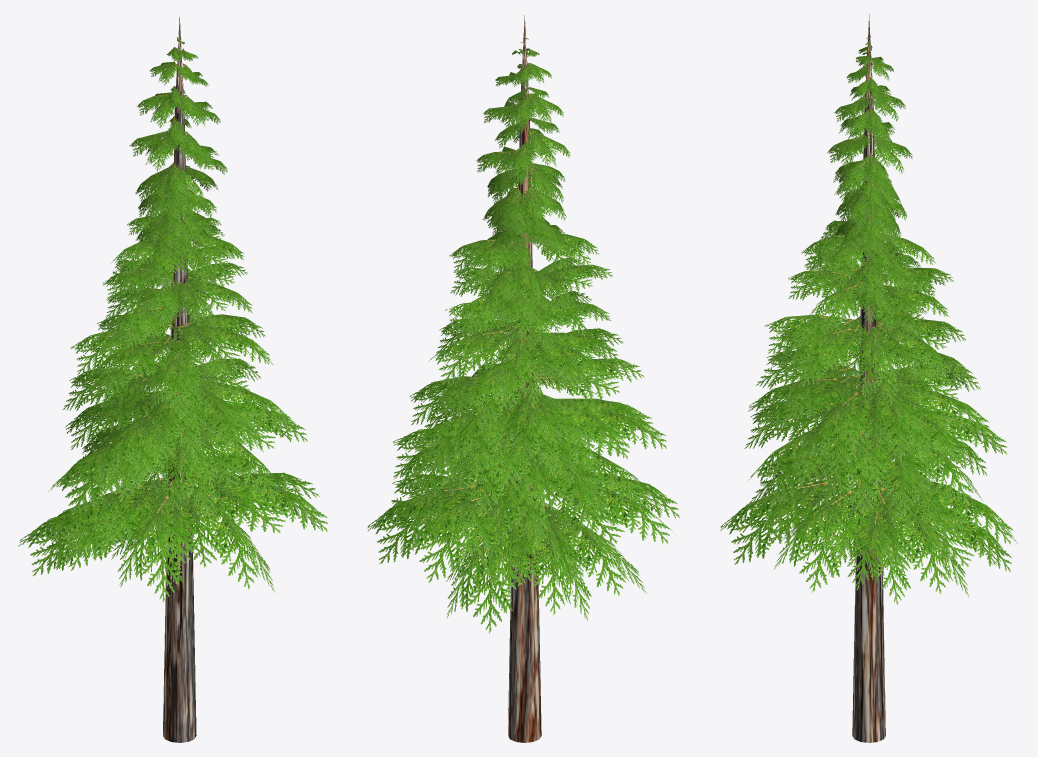
Rendered from tree_conifer_02.glb.
The picture shows the model from 3 angles, left to right: view 1: azimuth 30°, elevation 25°; view 2: azimuth 150°, elevation 25°; view 3: azimuth 270°, elevation 25°; orthographic projection.
Parts seen in each view (by area): view 1: env; view 2: env; view 3: env.
Boxes of the visible parts, bbox=[...] form: env: bbox=[18, 17, 327, 742]; env: bbox=[367, 15, 679, 742]; env: bbox=[720, 14, 1017, 742].
Bounding box in the file's own units: 2.05 × 5 × 1.94.
1 material, 1 textured.
